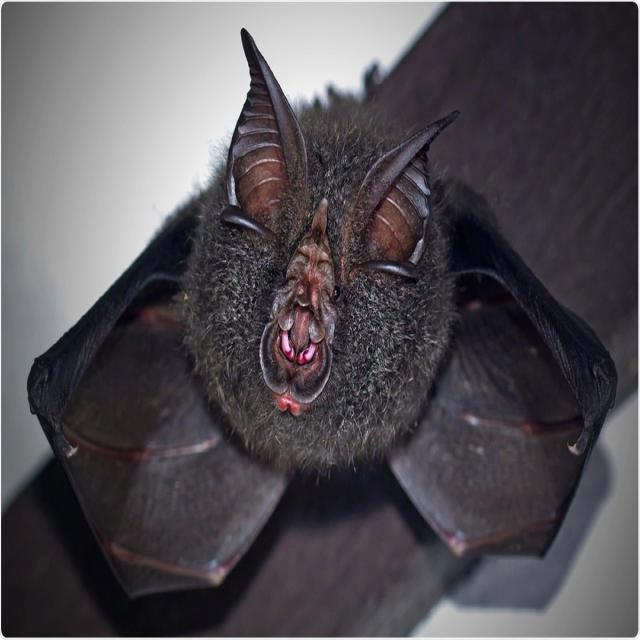bat: (27, 30, 617, 598)
